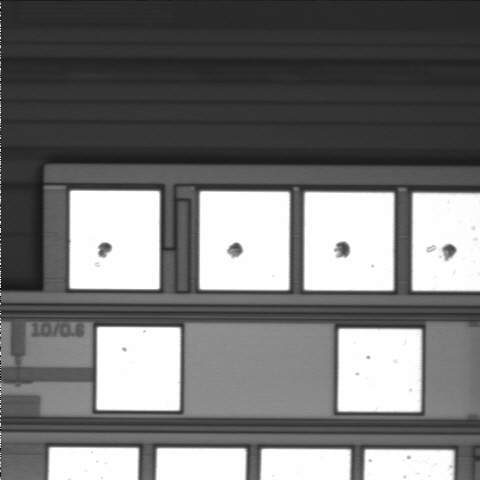pad: (200, 191, 290, 290), (70, 191, 160, 289), (304, 192, 394, 290), (97, 327, 180, 410), (338, 329, 421, 412)
